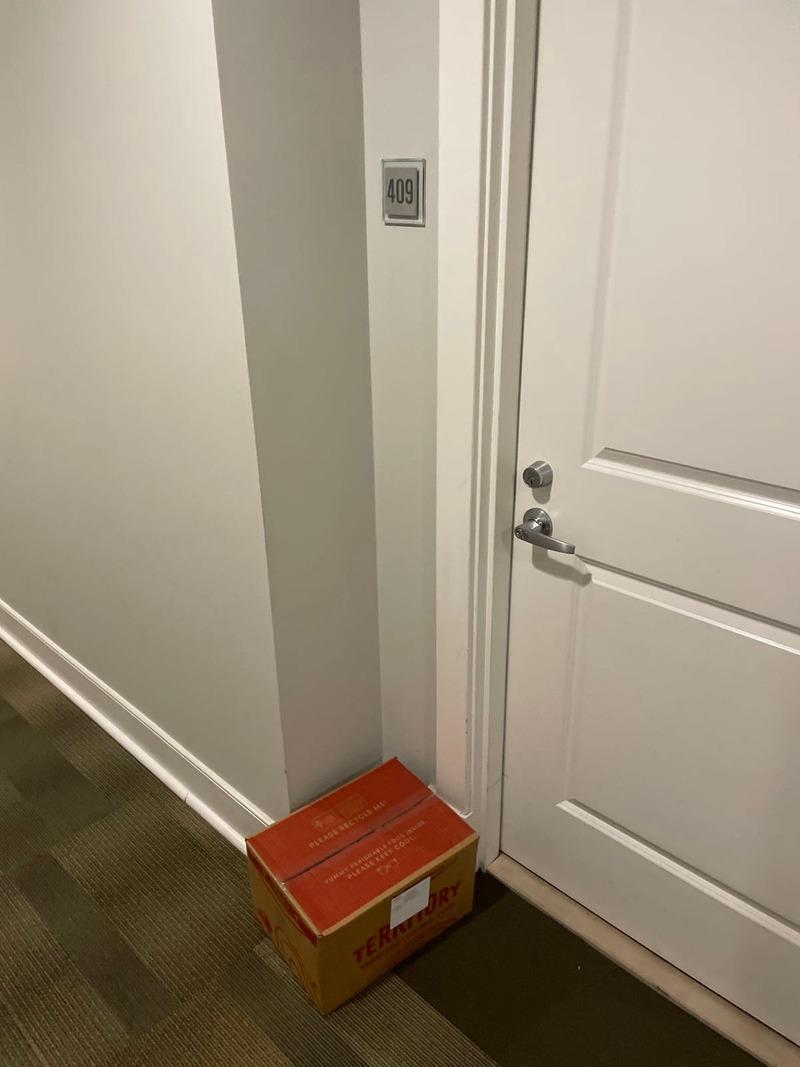package: (232, 750, 484, 1019)
